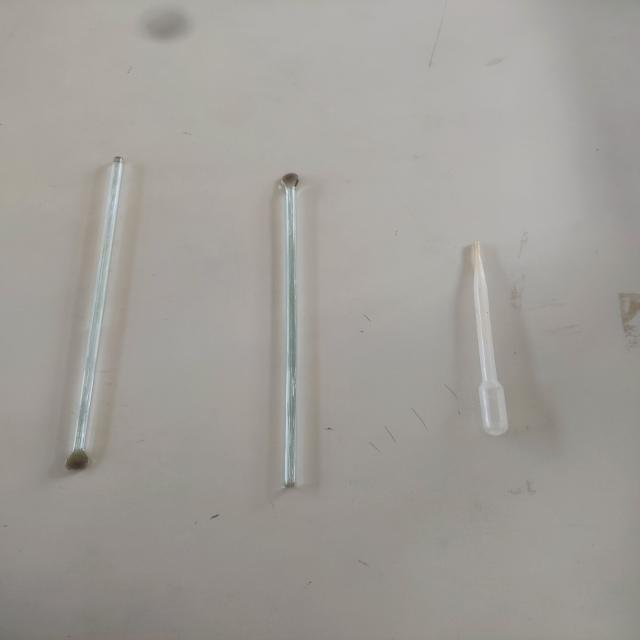Glass_Rod: (43, 124, 156, 491), (240, 151, 348, 509)
Pipette: (436, 211, 562, 458)
